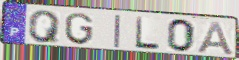0: (165, 19, 200, 53)
A: (196, 21, 236, 57)
G: (64, 12, 95, 46)
I: (113, 14, 122, 50)
L: (134, 16, 162, 52)
Q: (27, 10, 63, 44)
